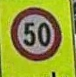limite 50: (9, 6, 61, 61)
